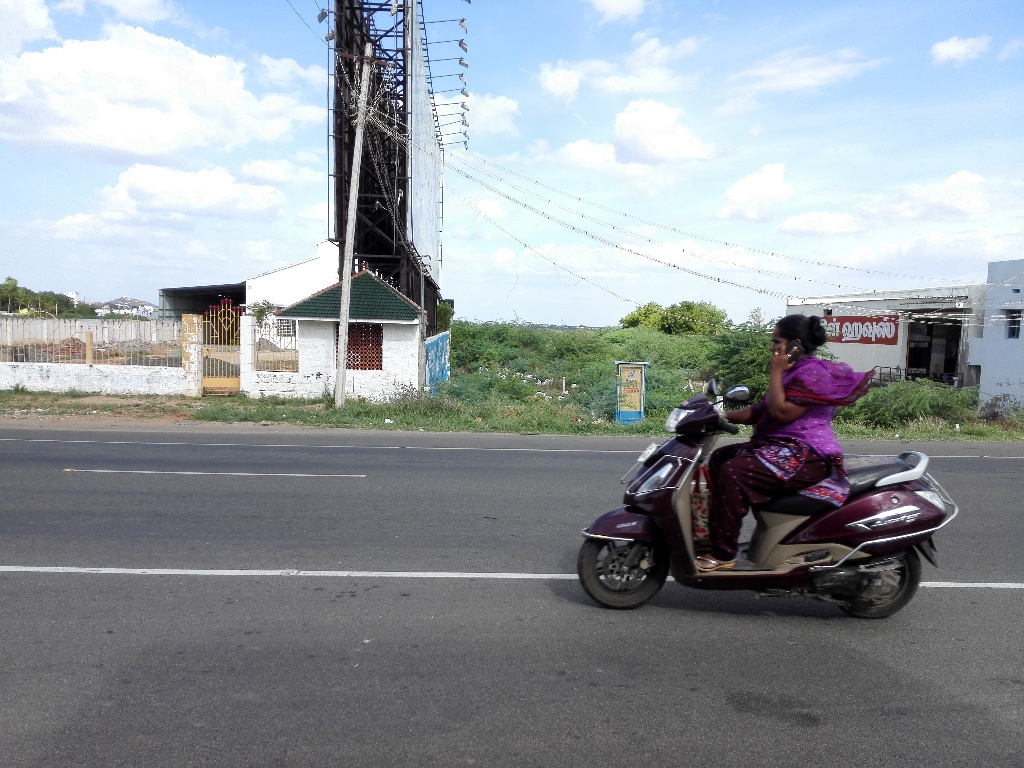biker: (546, 272, 988, 638)
nohelmet: (759, 302, 844, 380)
